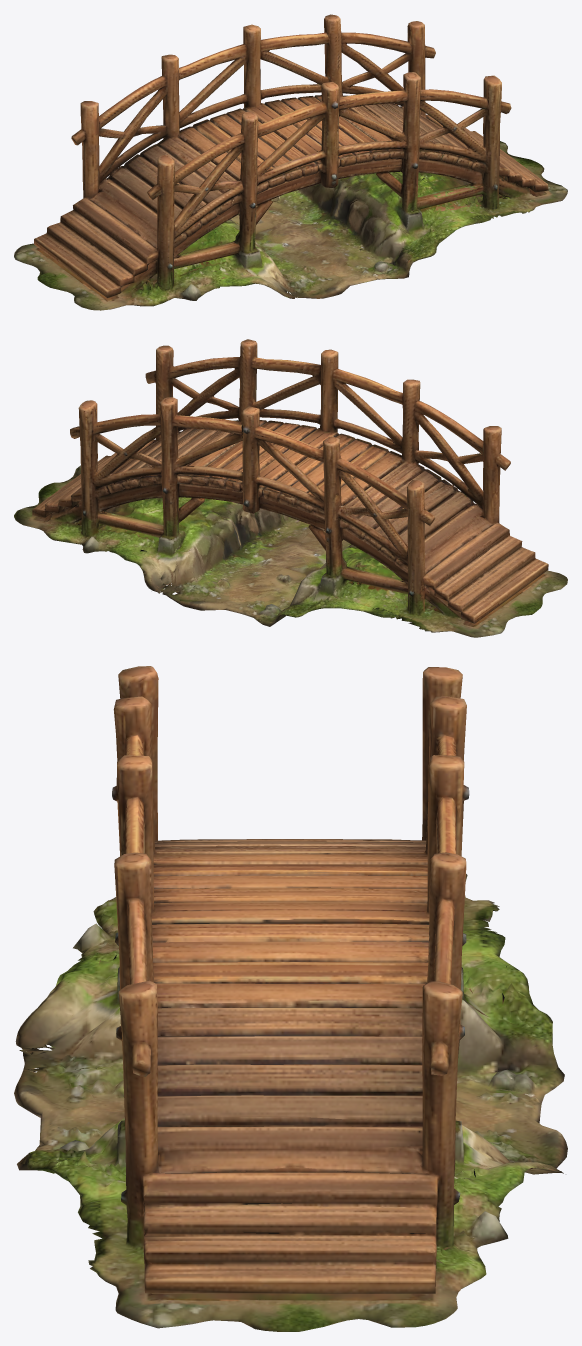
The model's file is Arched_Timber_Bridge.fbx.
The picture shows the model from 3 angles, top to bottom: view 1: azimuth 30°, elevation 25°; view 2: azimuth 150°, elevation 25°; view 3: azimuth 270°, elevation 25°; orthographic projection. The views are drawn at different scales.
Visible parts, largest first — view 1: Arched_Timber_Bridge_LOD0; view 2: Arched_Timber_Bridge_LOD0; view 3: Arched_Timber_Bridge_LOD0.
Boxes of the visible parts, x1,y1,x2,y2 form: Arched_Timber_Bridge_LOD0: (14, 14, 567, 310); Arched_Timber_Bridge_LOD0: (14, 339, 567, 637); Arched_Timber_Bridge_LOD0: (14, 666, 567, 1331).
Size of what is drawn, in the model's own units: 1.89 by 0.6712 by 0.9235.
1 material, 1 textured.
